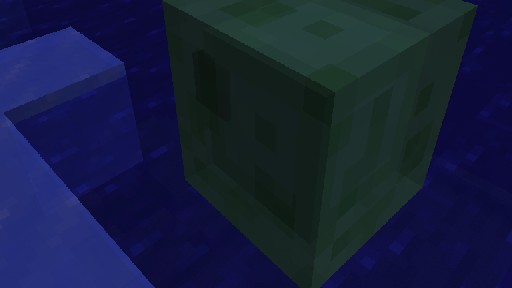slime: (161, 0, 478, 288)
